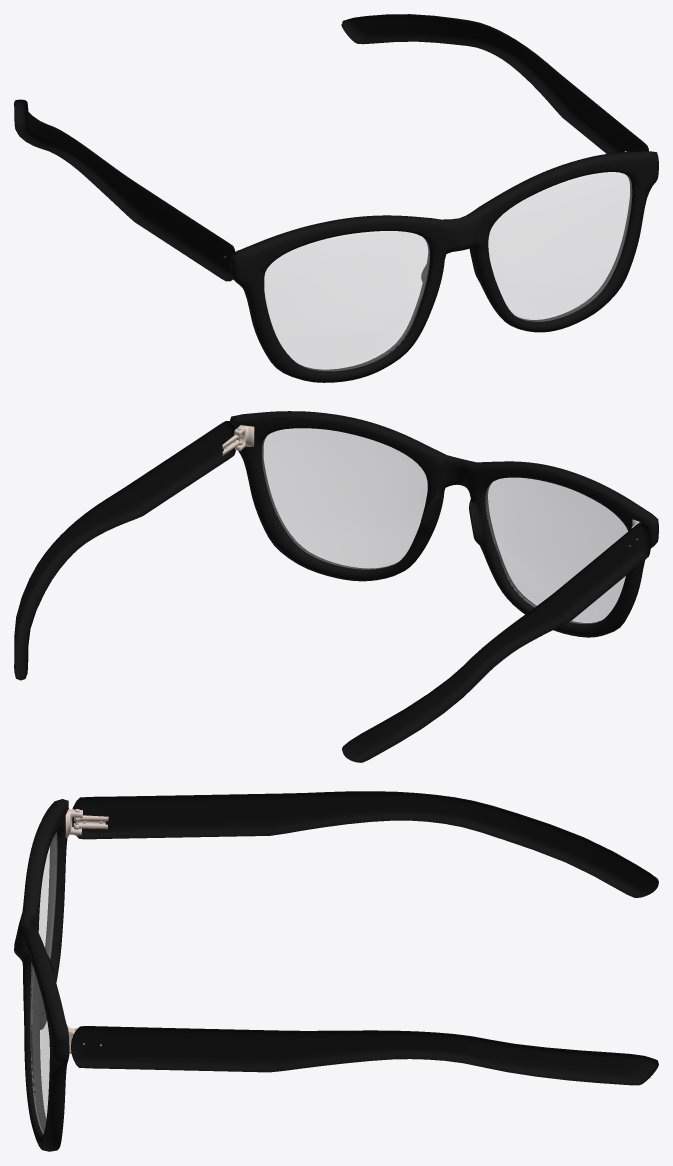
The model's file is glasses.glb.
The picture shows the model from 3 angles, top to bottom: view 1: azimuth 30°, elevation 25°; view 2: azimuth 150°, elevation 25°; view 3: azimuth 270°, elevation 25°; orthographic projection. The views are drawn at different scales.
Parts seen in each view (by area): view 1: Circle.005_5, Circle_0, Plane.001_1; view 2: Circle.005_5, Plane.001_1, Circle_0; view 3: Plane.001_1, Circle_0, Circle.005_5.
Part boxes in pixels (left/top/right/bottom): Circle.005_5: left=264, top=172, right=631, bottom=370; Circle_0: left=230, top=151, right=658, bottom=382; Plane.001_1: left=14, top=14, right=648, bottom=281; Circle.005_5: left=262, top=428, right=627, bottom=623; Plane.001_1: left=14, top=421, right=651, bottom=762; Circle_0: left=230, top=411, right=658, bottom=637; Plane.001_1: left=71, top=791, right=658, bottom=1085; Circle_0: left=14, top=799, right=69, bottom=1151; Circle.005_5: left=30, top=832, right=57, bottom=1133.
Size of the model in its own units: 0.1462 by 0.0501 by 0.1622.
